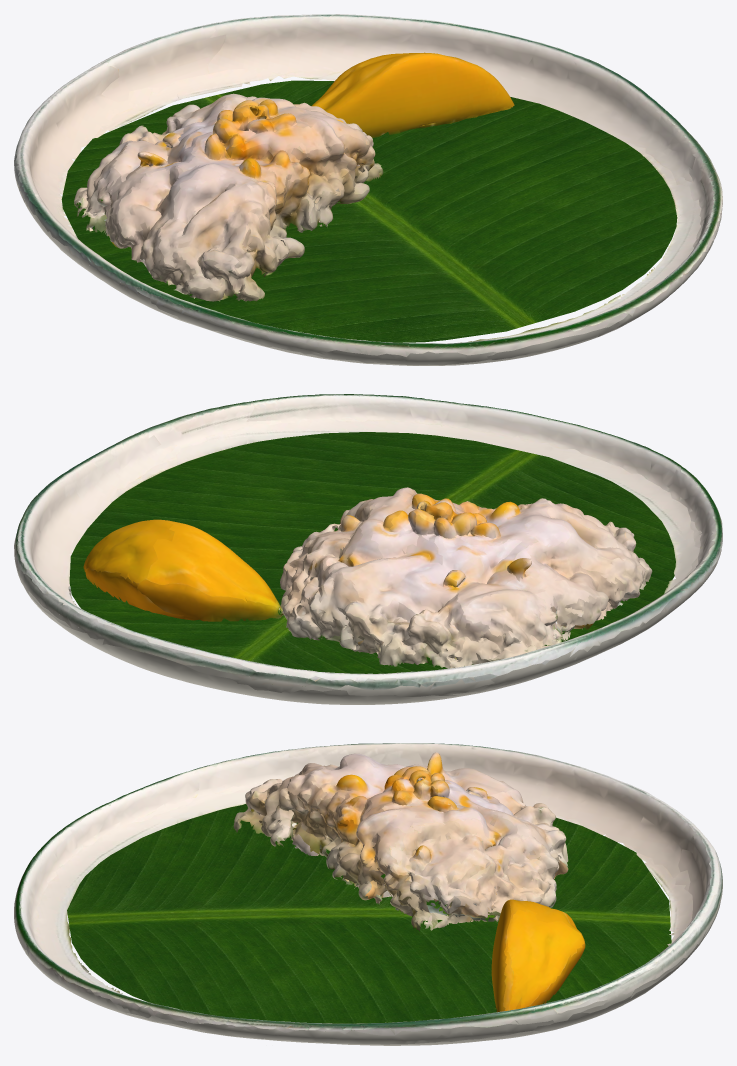
Rendered from mango-rice-2.glb.
The picture shows the model from 3 angles, top to bottom: view 1: azimuth 30°, elevation 25°; view 2: azimuth 150°, elevation 25°; view 3: azimuth 270°, elevation 25°; orthographic projection. The views are drawn at different scales.
Parts seen in each view (by area): view 1: canonical/continuous-leaf-repair, canonical/ceramic, food/independent-stage-2, canonical/underside; view 2: food/independent-stage-2, canonical/continuous-leaf-repair, canonical/ceramic, canonical/underside; view 3: canonical/continuous-leaf-repair, canonical/ceramic, food/independent-stage-2, canonical/underside.
Part boxes in pixels (x1,y1,x2,y2): canonical/continuous-leaf-repair: (61,80,677,342); canonical/ceramic: (14,14,722,356); food/independent-stage-2: (74,52,514,301); canonical/underside: (15,177,722,365); food/independent-stage-2: (83,487,652,668); canonical/continuous-leaf-repair: (69,432,675,673); canonical/ceramic: (14,394,722,690); canonical/underside: (14,545,722,704); canonical/continuous-leaf-repair: (67,804,671,1023); canonical/ceramic: (14,743,722,1035); food/independent-stage-2: (233,752,585,1012); canonical/underside: (17,897,721,1045).
Size of the model in its own units: 2.47 by 0.4777 by 2.68.
3 materials, 2 textured.
